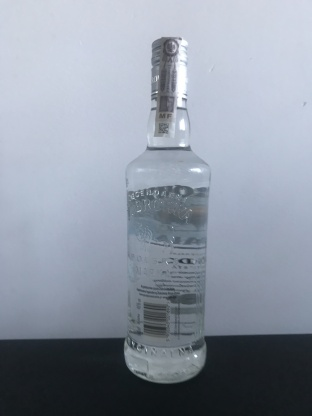nakretka: (148, 32, 190, 104)
